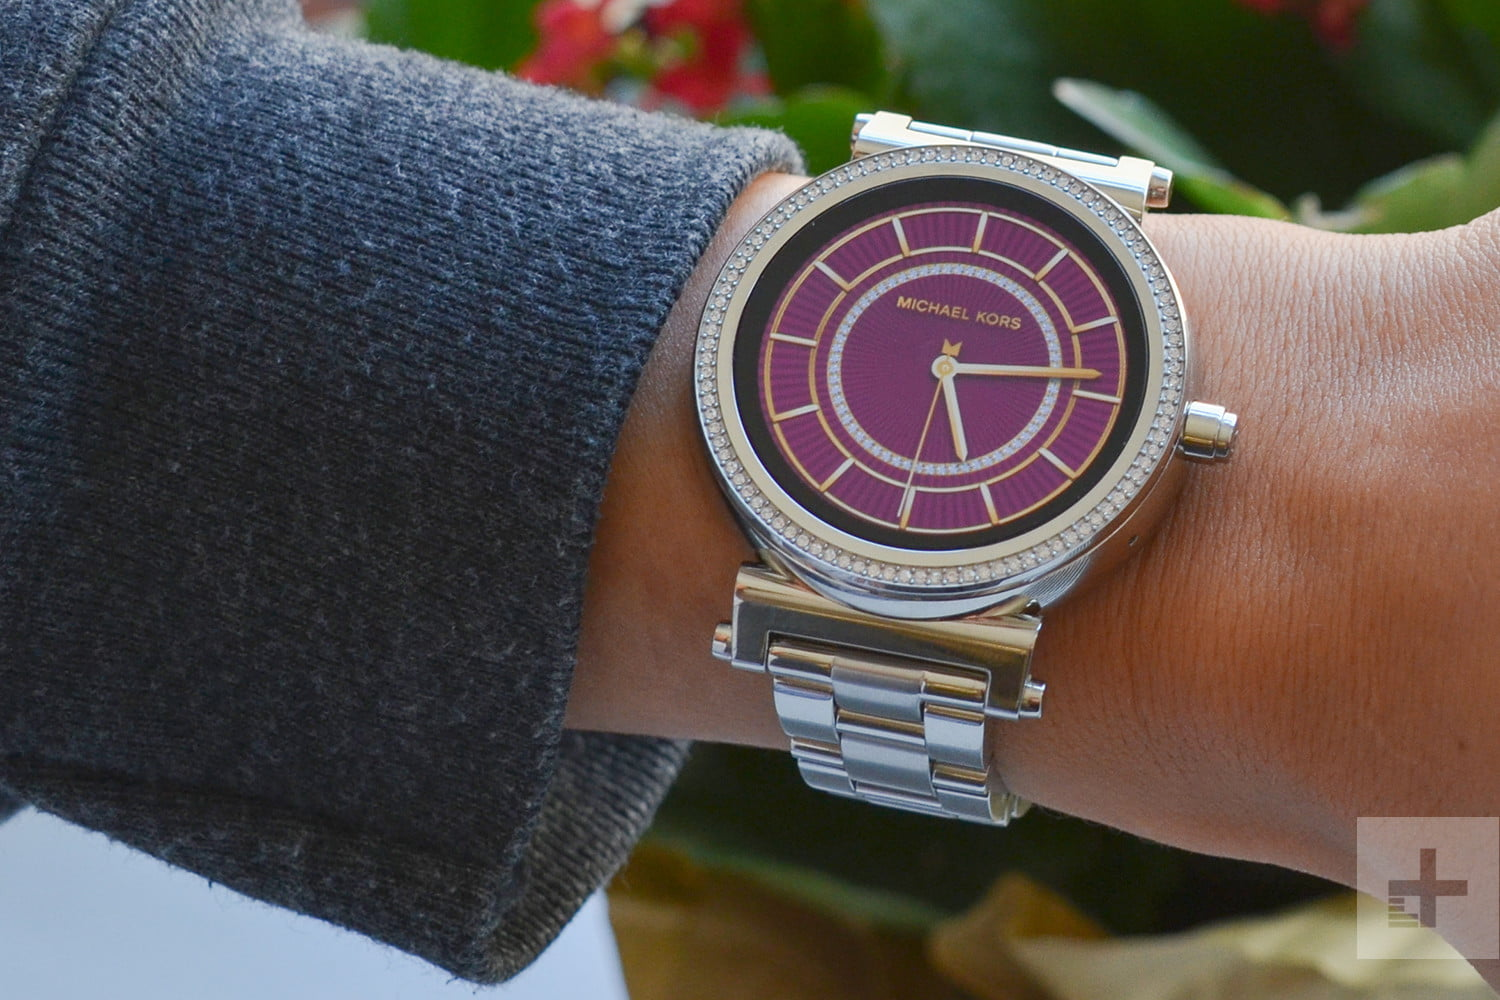clock: (718, 158, 1167, 585)
